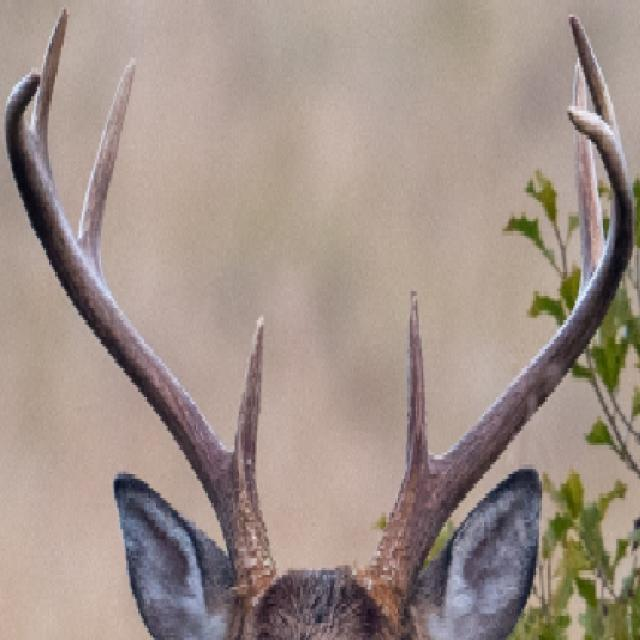L-F: (369, 11, 632, 635)
L-G1: (405, 288, 428, 470)
R-F: (5, 73, 274, 596)
R-G1: (233, 314, 265, 485)
R-G2: (79, 59, 138, 279)
R-G3: (30, 5, 69, 167)
